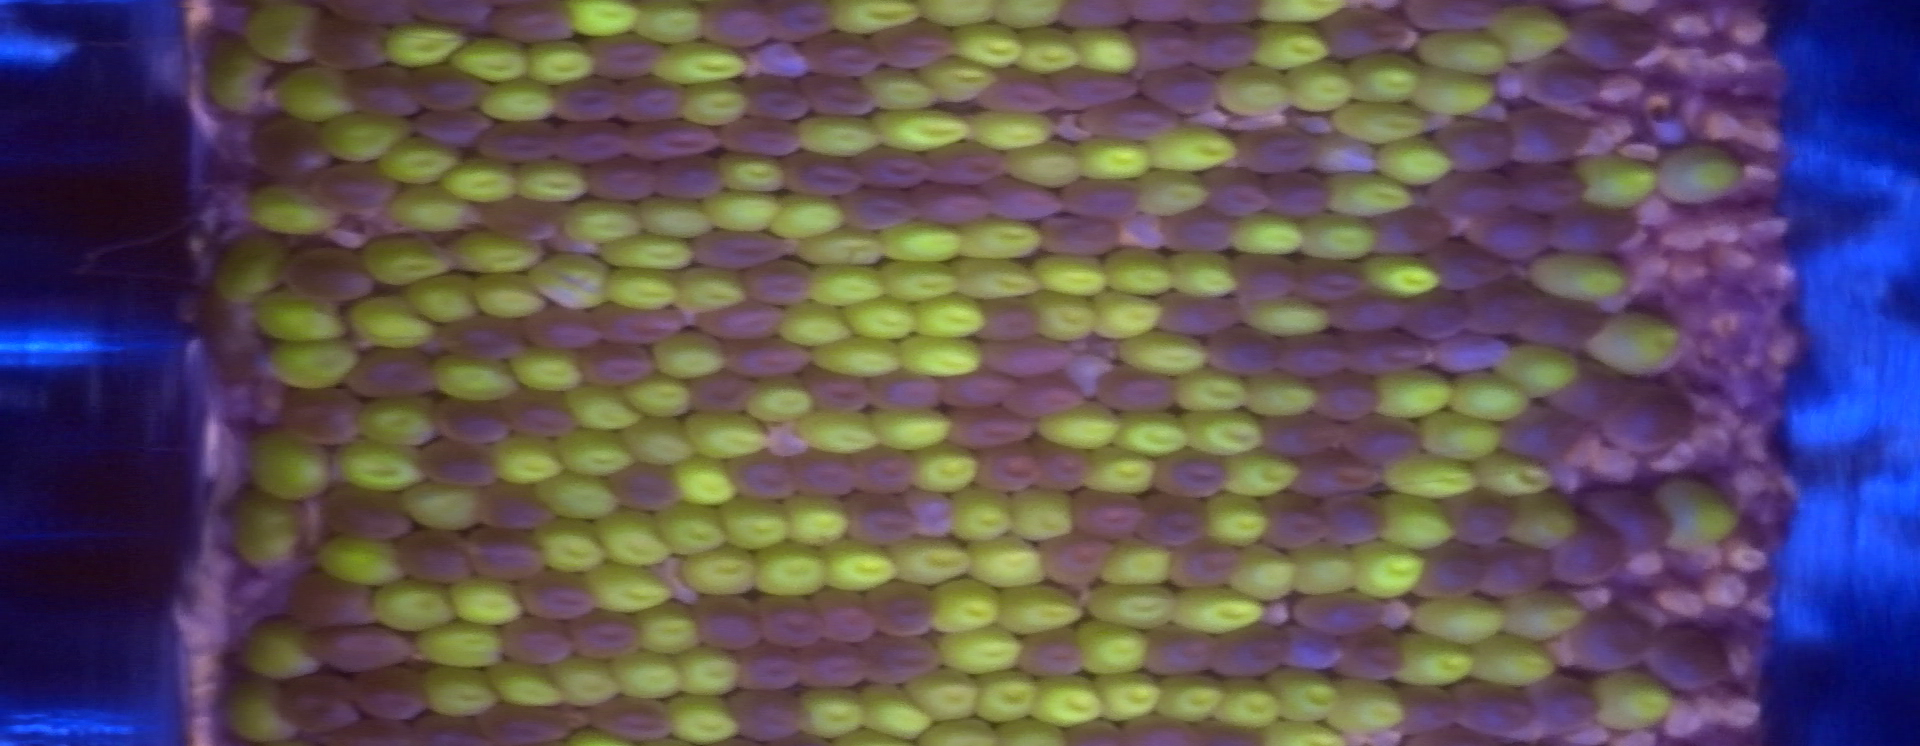fluorescent: (1644, 472, 1752, 562), (218, 483, 313, 582), (201, 220, 301, 311), (196, 21, 279, 121), (1644, 138, 1756, 213), (1588, 303, 1691, 381), (239, 425, 338, 506), (258, 331, 375, 399), (249, 285, 362, 355), (227, 614, 334, 687), (238, 178, 359, 243), (311, 105, 424, 171), (1584, 661, 1684, 736), (1404, 23, 1521, 86), (1315, 668, 1412, 742), (1524, 245, 1633, 311), (349, 232, 467, 293), (636, 34, 760, 92), (989, 576, 1092, 646), (1493, 583, 1599, 650), (520, 247, 620, 320), (267, 58, 364, 131), (209, 673, 305, 746), (331, 435, 440, 499), (1386, 627, 1489, 695), (1569, 147, 1669, 216), (309, 528, 413, 594), (1461, 628, 1565, 695), (1365, 488, 1462, 559), (576, 559, 684, 621), (342, 292, 444, 358), (367, 571, 468, 638), (1379, 448, 1491, 508), (378, 13, 480, 80), (1412, 405, 1513, 472), (1488, 341, 1588, 407), (1288, 207, 1392, 271), (1342, 535, 1436, 605), (868, 102, 984, 158), (1404, 58, 1507, 121), (1260, 660, 1351, 733), (642, 321, 738, 388), (1207, 58, 1300, 127), (744, 538, 839, 606), (1495, 488, 1589, 556), (1314, 165, 1422, 225), (960, 530, 1059, 595), (347, 391, 449, 453), (426, 349, 529, 412), (1440, 365, 1540, 429), (1113, 325, 1220, 385), (1236, 288, 1342, 348), (847, 677, 940, 746), (954, 103, 1067, 159), (1326, 96, 1439, 152), (444, 225, 560, 281), (813, 535, 909, 601), (1031, 390, 1127, 456), (1479, 1, 1582, 62), (407, 615, 516, 673), (1164, 582, 1273, 639), (934, 622, 1035, 685), (920, 573, 1013, 641), (591, 502, 680, 573), (1408, 589, 1515, 648), (880, 532, 982, 593), (1078, 578, 1188, 635), (482, 428, 578, 492), (998, 134, 1093, 198), (1365, 363, 1461, 428), (414, 658, 511, 722), (447, 27, 540, 93), (894, 660, 987, 726), (1191, 483, 1280, 552), (393, 477, 493, 538), (1065, 616, 1160, 681), (807, 328, 911, 387), (1141, 121, 1245, 180), (676, 405, 778, 465), (1169, 403, 1271, 463), (1220, 538, 1305, 609), (1336, 47, 1428, 113), (889, 328, 994, 386), (371, 132, 469, 194), (438, 571, 536, 632), (776, 489, 862, 559), (471, 69, 567, 131), (527, 511, 613, 579), (944, 254, 1052, 309), (649, 496, 740, 561), (242, 1, 329, 69), (529, 467, 628, 526), (912, 51, 1009, 111), (864, 401, 961, 461), (1356, 247, 1452, 307), (676, 539, 767, 603), (553, 194, 651, 252), (560, 379, 651, 441), (1106, 405, 1201, 465), (1213, 445, 1309, 505), (1093, 243, 1189, 303), (1280, 540, 1368, 605), (1149, 669, 1238, 733), (855, 58, 951, 116), (998, 481, 1084, 548), (665, 260, 756, 322), (1128, 163, 1218, 225), (1081, 285, 1176, 345), (400, 268, 487, 333), (1074, 443, 1166, 505), (551, 423, 647, 481), (380, 178, 475, 236), (1156, 246, 1251, 305), (872, 216, 973, 271), (501, 341, 594, 401), (460, 265, 553, 325), (764, 186, 855, 247), (542, 649, 629, 713), (1216, 208, 1314, 265), (615, 367, 707, 428), (1089, 532, 1180, 592), (791, 679, 879, 741), (596, 228, 705, 278), (954, 213, 1053, 268), (795, 405, 891, 462), (433, 151, 524, 211), (519, 33, 606, 96), (713, 492, 800, 555), (1024, 285, 1106, 352), (1064, 134, 1164, 187), (1206, 673, 1289, 737), (598, 261, 689, 320), (945, 478, 1022, 548), (667, 642, 752, 706), (1002, 23, 1091, 83), (1236, 367, 1329, 425), (1026, 669, 1109, 733), (1371, 134, 1460, 194), (1245, 13, 1333, 73), (800, 260, 898, 314), (1464, 448, 1562, 502), (482, 653, 568, 714), (1087, 668, 1173, 729), (771, 296, 864, 353), (708, 146, 798, 203), (1281, 56, 1364, 119), (791, 222, 894, 272), (696, 185, 793, 238), (967, 665, 1048, 729), (664, 450, 744, 513), (1167, 365, 1260, 420), (905, 436, 987, 499), (736, 371, 827, 428), (792, 108, 889, 160), (508, 154, 600, 209), (606, 647, 692, 706), (1060, 21, 1146, 80), (872, 255, 967, 307), (902, 292, 999, 343), (613, 412, 699, 469), (1026, 247, 1116, 303), (1302, 127, 1389, 183), (632, 192, 722, 245), (661, 687, 742, 746), (838, 292, 926, 345), (942, 20, 1029, 73), (675, 76, 756, 134), (631, 598, 707, 658), (628, 1, 719, 51), (822, 1, 929, 42), (564, 1, 648, 45), (912, 710, 1008, 746), (1253, 712, 1351, 746), (986, 1, 1069, 36)
nonfluorescent: (191, 282, 282, 393), (1573, 479, 1686, 568), (1646, 619, 1745, 703), (1553, 2, 1667, 76), (1539, 505, 1633, 593), (1562, 601, 1667, 680), (1599, 374, 1700, 454), (272, 243, 387, 312), (268, 381, 373, 456), (279, 565, 388, 636), (244, 111, 344, 187), (299, 621, 425, 681), (268, 669, 373, 740), (313, 481, 424, 549), (388, 522, 486, 597), (1400, 530, 1498, 605), (456, 519, 558, 590), (1474, 530, 1562, 612), (1458, 205, 1561, 274), (1518, 665, 1611, 742), (1540, 353, 1635, 428), (1499, 100, 1596, 173), (1445, 676, 1548, 744), (338, 341, 444, 405), (1487, 403, 1592, 467), (1518, 285, 1611, 356), (1202, 616, 1296, 687), (1311, 2, 1413, 67), (1436, 478, 1524, 552), (1542, 200, 1647, 262), (342, 660, 441, 726), (1136, 619, 1232, 687), (1333, 325, 1446, 382), (1280, 442, 1387, 502), (934, 401, 1051, 456), (1164, 529, 1253, 601), (301, 13, 399, 78), (1513, 49, 1611, 114), (682, 589, 773, 659), (1333, 409, 1433, 473), (302, 159, 405, 220), (1418, 236, 1521, 298), (584, 295, 696, 352), (1251, 486, 1341, 556), (720, 682, 818, 746), (1195, 320, 1293, 383), (1358, 201, 1460, 262), (1074, 92, 1187, 147), (1141, 288, 1256, 342), (853, 628, 953, 691), (1428, 115, 1524, 179), (973, 333, 1085, 388), (1287, 586, 1396, 642), (1127, 488, 1221, 552), (471, 189, 573, 249), (431, 312, 539, 369), (746, 590, 834, 659), (1284, 251, 1381, 314), (492, 609, 587, 673), (834, 486, 924, 552), (1086, 363, 1188, 421), (1189, 163, 1284, 225), (1038, 61, 1146, 116), (601, 456, 694, 519), (560, 605, 653, 669), (1067, 483, 1160, 546), (864, 13, 961, 75), (1251, 407, 1352, 465), (1501, 160, 1599, 220), (1420, 165, 1524, 222), (972, 171, 1074, 229), (716, 447, 808, 511), (1135, 61, 1227, 125), (969, 62, 1068, 121), (804, 582, 887, 653), (399, 60, 500, 118), (509, 565, 604, 626), (862, 576, 944, 646), (1331, 621, 1416, 688), (471, 479, 568, 538), (1227, 122, 1324, 181), (691, 295, 796, 349), (999, 366, 1093, 426), (1458, 268, 1538, 339), (1144, 443, 1236, 505), (413, 431, 501, 495), (969, 434, 1052, 501), (711, 332, 820, 383), (1179, 18, 1272, 78), (1031, 528, 1120, 590), (615, 116, 729, 165), (789, 635, 879, 696), (582, 691, 682, 746), (778, 146, 869, 206), (735, 254, 827, 314), (336, 62, 424, 125), (498, 382, 587, 445), (1051, 171, 1152, 225), (427, 392, 520, 451), (1031, 209, 1128, 266), (791, 28, 891, 82), (684, 225, 795, 274), (1384, 680, 1472, 741), (920, 136, 1015, 192), (1011, 622, 1096, 686), (1251, 168, 1344, 225), (579, 29, 673, 86), (569, 336, 664, 392), (1393, 285, 1482, 345), (844, 141, 944, 194), (905, 176, 1000, 232), (1222, 249, 1311, 307), (1313, 488, 1393, 552), (858, 366, 951, 423), (516, 303, 612, 356), (1308, 365, 1389, 429), (467, 699, 577, 746), (729, 638, 812, 699), (831, 183, 926, 236), (796, 361, 884, 419), (845, 439, 924, 502), (1266, 328, 1358, 383), (793, 69, 887, 122), (647, 148, 733, 206), (1026, 435, 1104, 499), (471, 118, 568, 169), (1155, 202, 1240, 260), (966, 294, 1054, 349), (933, 366, 1029, 416), (681, 365, 764, 423), (1120, 18, 1200, 78), (785, 445, 866, 503), (1271, 621, 1352, 680), (405, 105, 504, 153), (1316, 292, 1416, 339), (579, 153, 669, 206), (733, 72, 818, 127), (480, 1, 582, 47), (545, 116, 636, 167), (714, 115, 808, 163), (546, 73, 627, 127), (1395, 1, 1505, 40), (1425, 331, 1518, 376), (898, 483, 965, 545), (607, 73, 692, 122), (696, 1, 778, 51), (760, 1, 844, 47), (744, 39, 816, 87), (313, 1, 424, 32), (756, 413, 818, 467), (1053, 1, 1139, 40), (1116, 708, 1204, 746), (1180, 1, 1277, 32), (400, 1, 500, 29)
